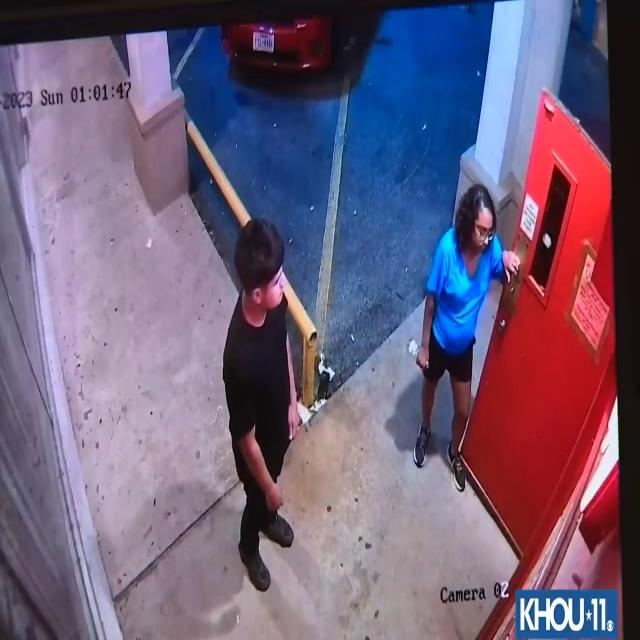Person: (408, 175, 525, 492), (214, 208, 306, 590)
